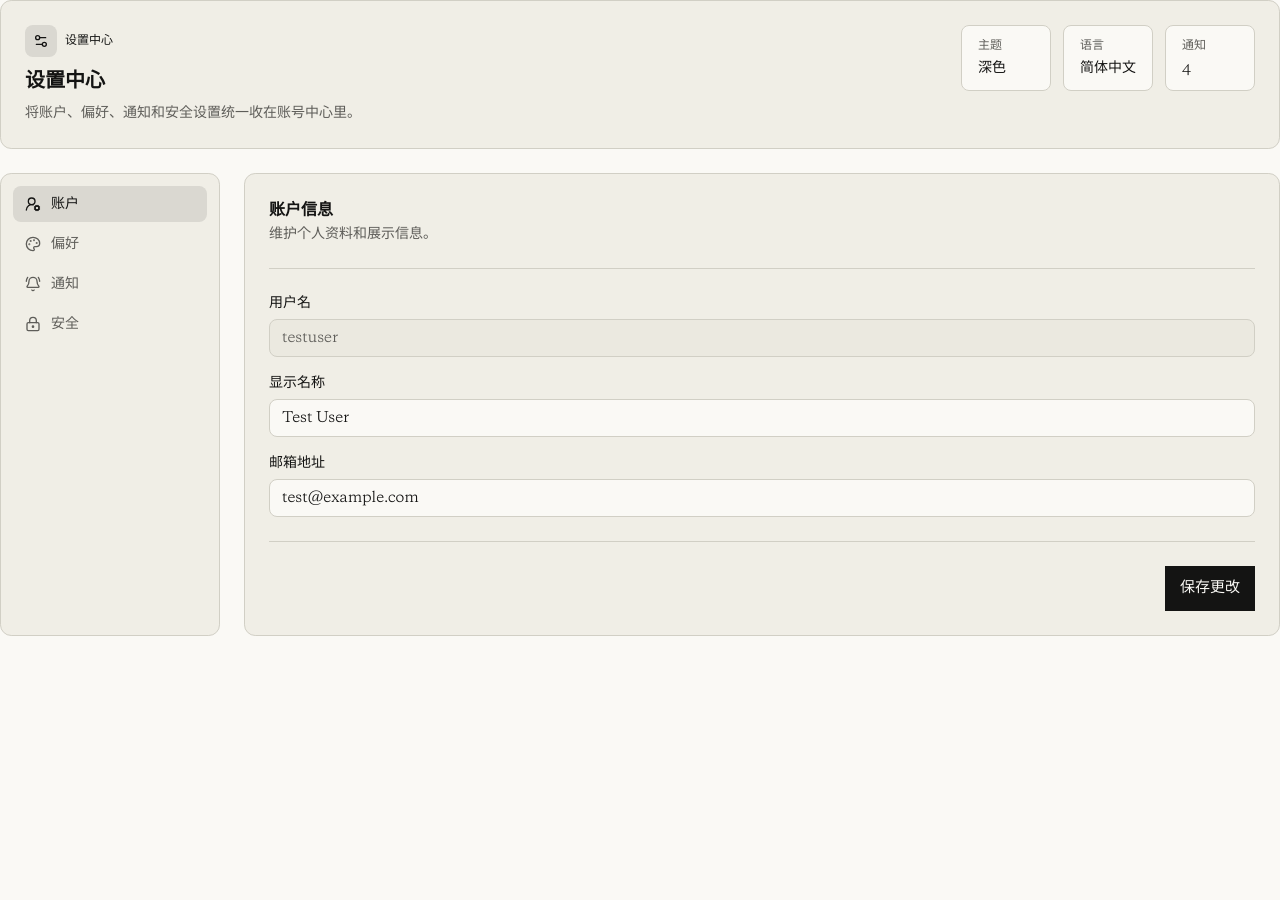
Test: Settings › loads preferences from localStorage on mount
// Click the preferences tab to see the loaded theme
Click the button "偏好" at point(110, 244), box [13, 226, 207, 262]
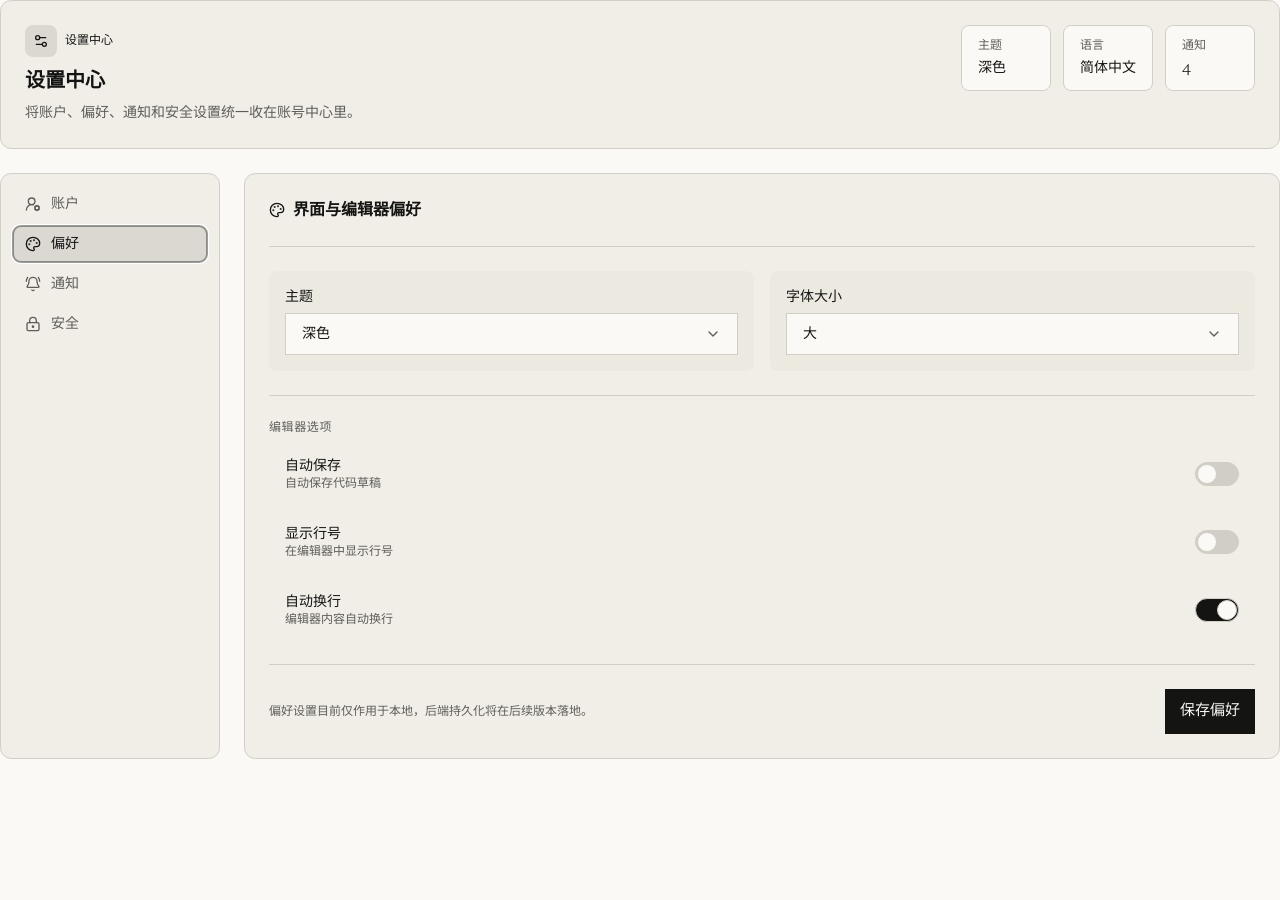
Result: the heading "界面与编辑器偏好" is shown at [293, 198, 421, 222]
Result: the dropdown labelled "深色" is shown at [285, 313, 738, 355]
Result: the dropdown labelled "大" is shown at [786, 313, 1239, 355]
